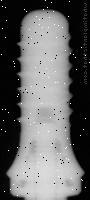Straumann ITI: (6, 10, 85, 200)
